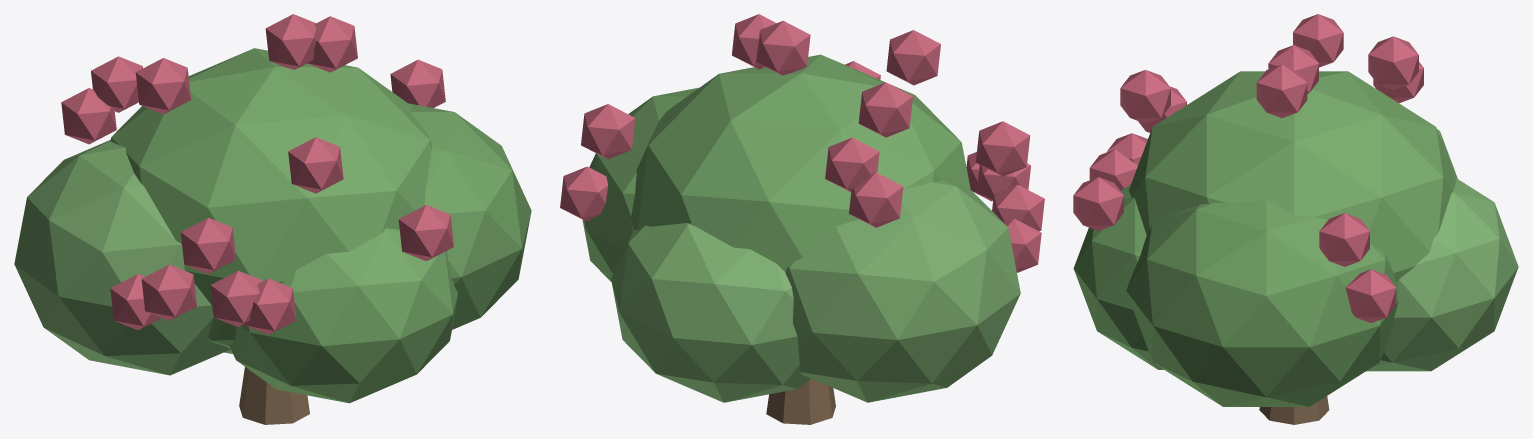
Rendered from Berry_Bush.glb.
The picture shows the model from 3 angles, left to right: view 1: azimuth 30°, elevation 25°; view 2: azimuth 150°, elevation 25°; view 3: azimuth 270°, elevation 25°; orthographic projection. The views are drawn at different scales.
Parts seen in each view (by area): view 1: BerryBush; view 2: BerryBush; view 3: BerryBush.
Boxes of the visible parts, x1,y1,x2,y2 form: BerryBush: (14, 14, 531, 424); BerryBush: (560, 14, 1044, 424); BerryBush: (1073, 14, 1518, 424).
Size of the model in its own units: 1.38 by 1.18 by 1.27.
